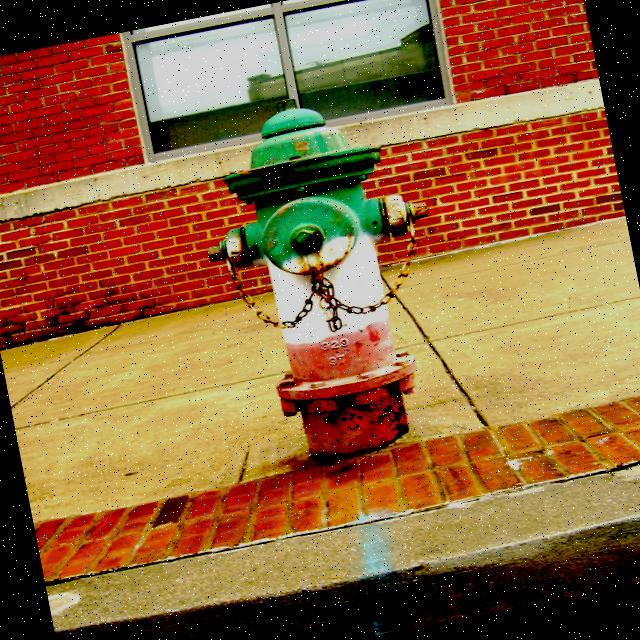fire_hydrant: (180, 76, 472, 478)
